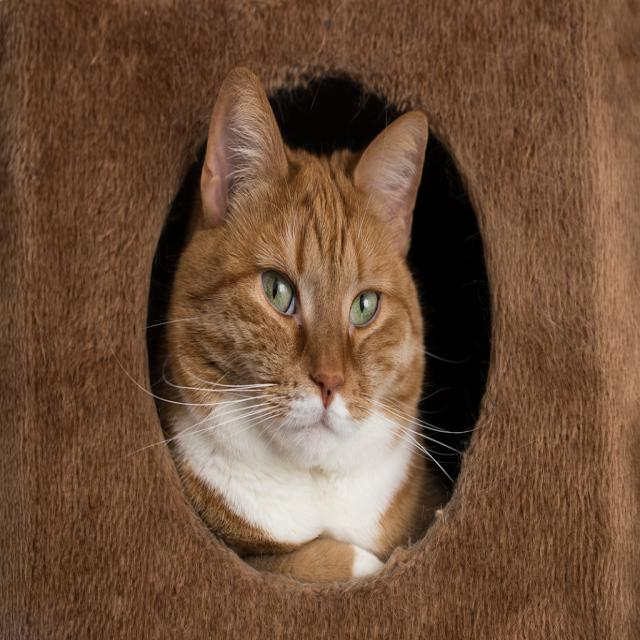Cat: (110, 64, 500, 580)
